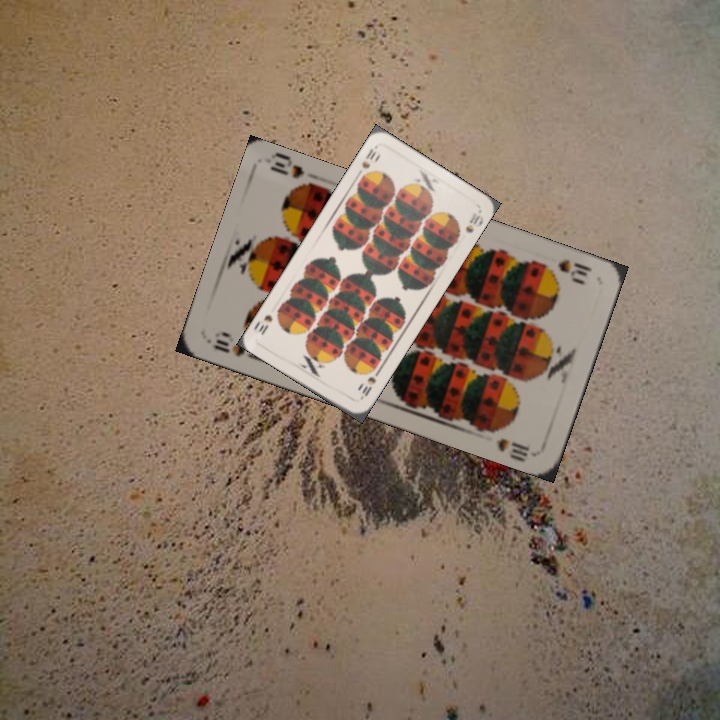S10: (539, 255, 594, 287), (210, 328, 248, 360), (357, 142, 380, 181), (356, 372, 379, 403)
